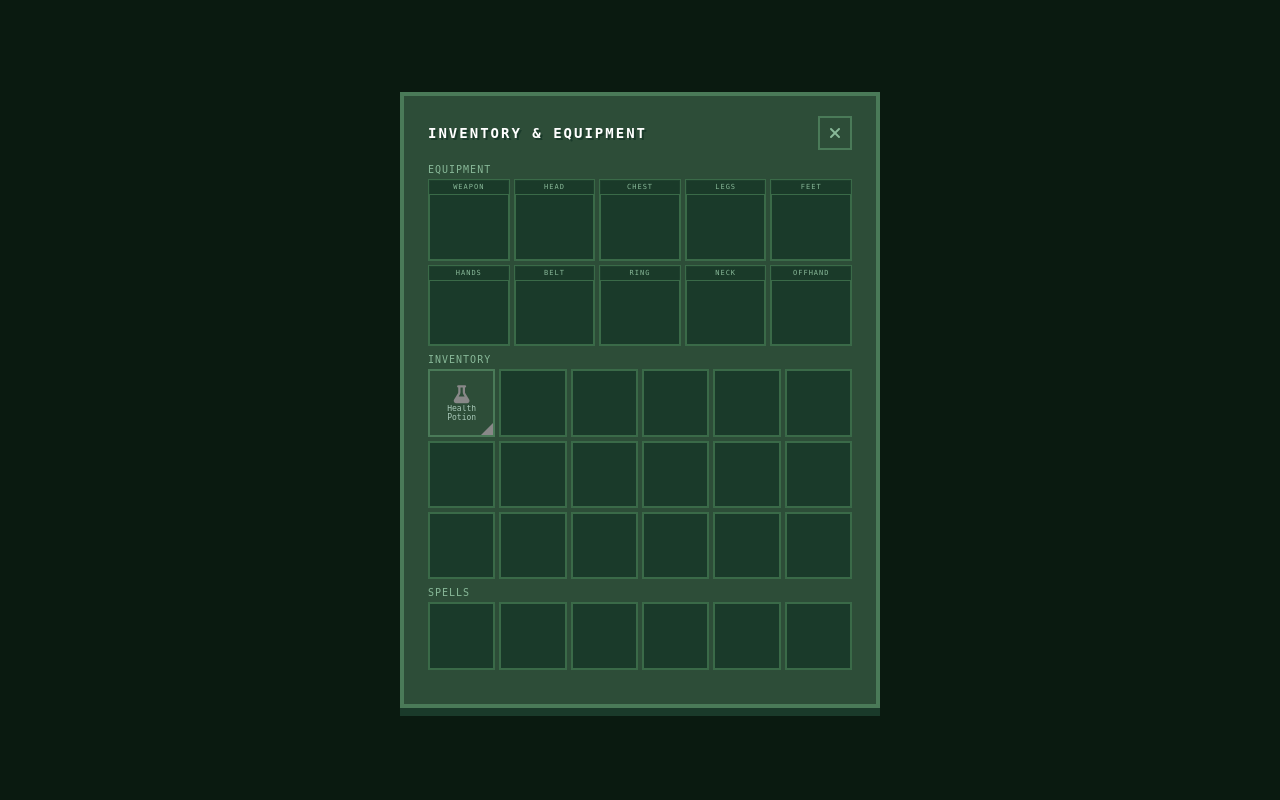
Test: InventoryDialog › consume confirmation dialog › opens consume dialog when clicking a consumable item in inventory
This screenshot has width=1280, height=800.
Click the element showing "Health Potion": x=462, y=403 x1=428 y1=369 x2=495 y2=437
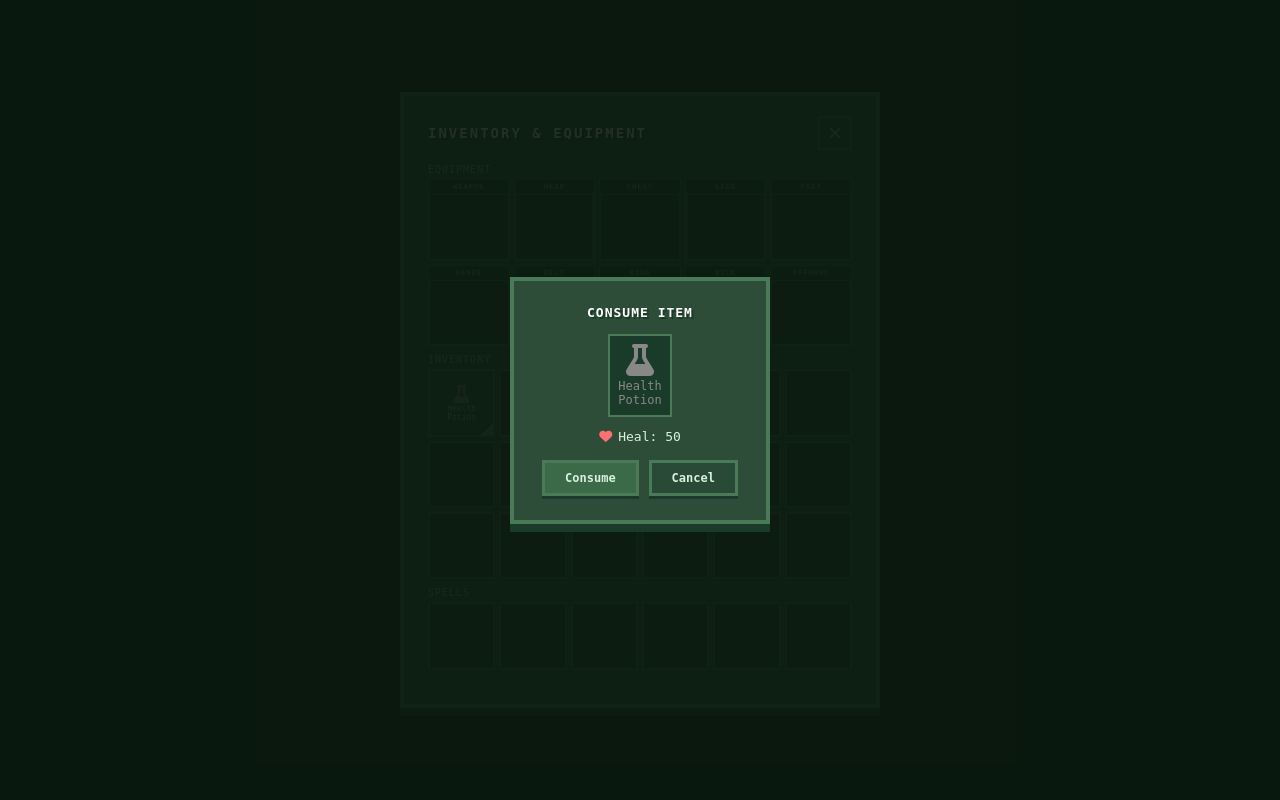
Result: the heading "Consume Item" is shown at x1=587 y1=304 x2=693 y2=320
Result: the button "Consume" is shown at x1=542 y1=460 x2=639 y2=496
Result: the button "Cancel" is shown at x1=649 y1=460 x2=738 y2=496
